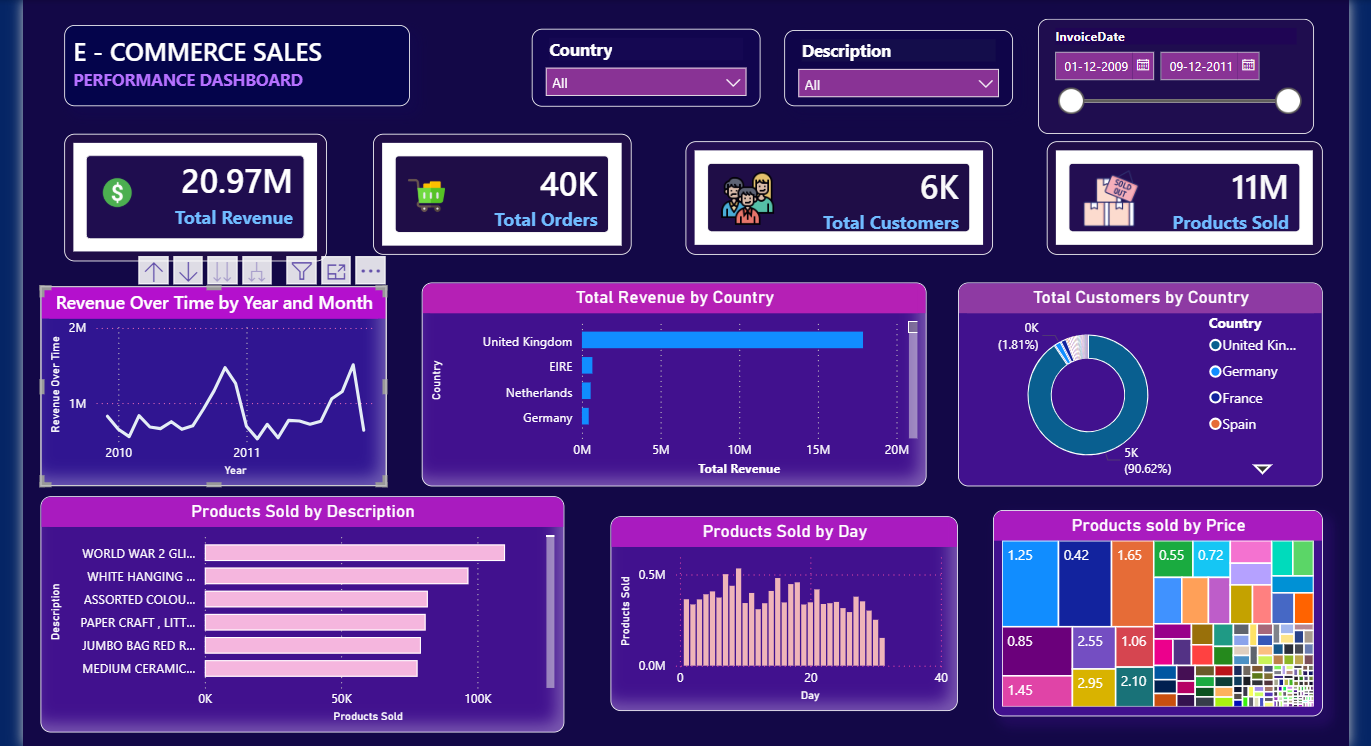

What the dashboard file says about the page in this screenshot:
{"tool":"powerbi","page":{"name":"Page 1","canvas":[1280,720],"ordinal":0},"visuals":[{"type":"cardVisual","fields":{"Data":["data.Total Revenue"]},"box":[39.8,129.1,253.4,123.1],"z":0},{"type":"cardVisual","fields":{"Data":["data.Total Orders"]},"box":[337.8,129.1,249.7,117],"z":1000},{"type":"cardVisual","fields":{"Data":["data.Total Customers"]},"box":[639.4,136.3,296.8,109.8],"z":2000},{"type":"cardVisual","fields":{"Data":["data.Products Sold"]},"box":[988.1,136.3,266.6,109.8],"z":3000},{"type":"lineChart","fields":{"Y":["data.Total Revenue"],"Category":["data.InvoiceDate.Variation.Date Hierarchy.Year","data.InvoiceDate.Variation.Date Hierarchy.Month"]},"box":[16.9,276.3,334.2,193],"z":4000},{"type":"barChart","fields":{"Category":["data.Country"],"Y":["data.Total Revenue"]},"box":[384.9,272.7,487.4,196.6],"z":5000},{"type":"donutChart","fields":{"Category":["data.Country"],"Y":["data.Total Customers"]},"box":[902.4,272.7,352.3,196.6],"z":6000},{"type":"barChart","fields":{"Category":["data.Description"],"Y":["data.Products Sold"]},"box":[16.9,479,505.5,228],"z":7000},{"type":"columnChart","fields":{"Category":["data.InvoiceDate.Variation.Date Hierarchy.Day"],"Y":["data.Products Sold"]},"box":[567,498.3,335.4,188.2],"z":8000},{"type":"treemap","fields":{"Values":["data.Products Sold"],"Group":["data.Price"]},"box":[936.2,492.2,318.5,199.1],"z":9000},{"type":"slicer","fields":{"Values":["data.Country"]},"box":[490.5,27.8,220.7,75.2],"z":10000},{"type":"slicer","fields":{"Values":["data.Description"]},"box":[734.2,29.4,220.7,73.6],"z":11000},{"type":"slicer","fields":{"Values":["data.InvoiceDate"]},"box":[979.6,18.1,266.6,111],"z":12000},{"type":"textbox","box":[39.2,24.5,333.6,78.5],"z":13000}]}

Visuals, with their boxes on the page's 1280x720 design canvas (x1, y1, x2, y2). These are canvas units, not pixel positions in the 1371x746 screenshot, which may show the page scaled, cropped or inside an application window:
cardVisual - data.Total Revenue: locate(40, 129, 293, 252)
cardVisual - data.Total Orders: locate(338, 129, 588, 246)
cardVisual - data.Total Customers: locate(639, 136, 936, 246)
cardVisual - data.Products Sold: locate(988, 136, 1255, 246)
lineChart - data.Total Revenue x data.InvoiceDate.Variation.Date Hierarchy.Year: locate(17, 276, 351, 469)
barChart - data.Country x data.Total Revenue: locate(385, 273, 872, 469)
donutChart - data.Country x data.Total Customers: locate(902, 273, 1255, 469)
barChart - data.Description x data.Products Sold: locate(17, 479, 522, 707)
columnChart - data.InvoiceDate.Variation.Date Hierarchy.Day x data.Products Sold: locate(567, 498, 902, 686)
treemap - data.Products Sold x data.Price: locate(936, 492, 1255, 691)
slicer - data.Country: locate(490, 28, 711, 103)
slicer - data.Description: locate(734, 29, 955, 103)
slicer - data.InvoiceDate: locate(980, 18, 1246, 129)
textbox: locate(39, 24, 373, 103)
